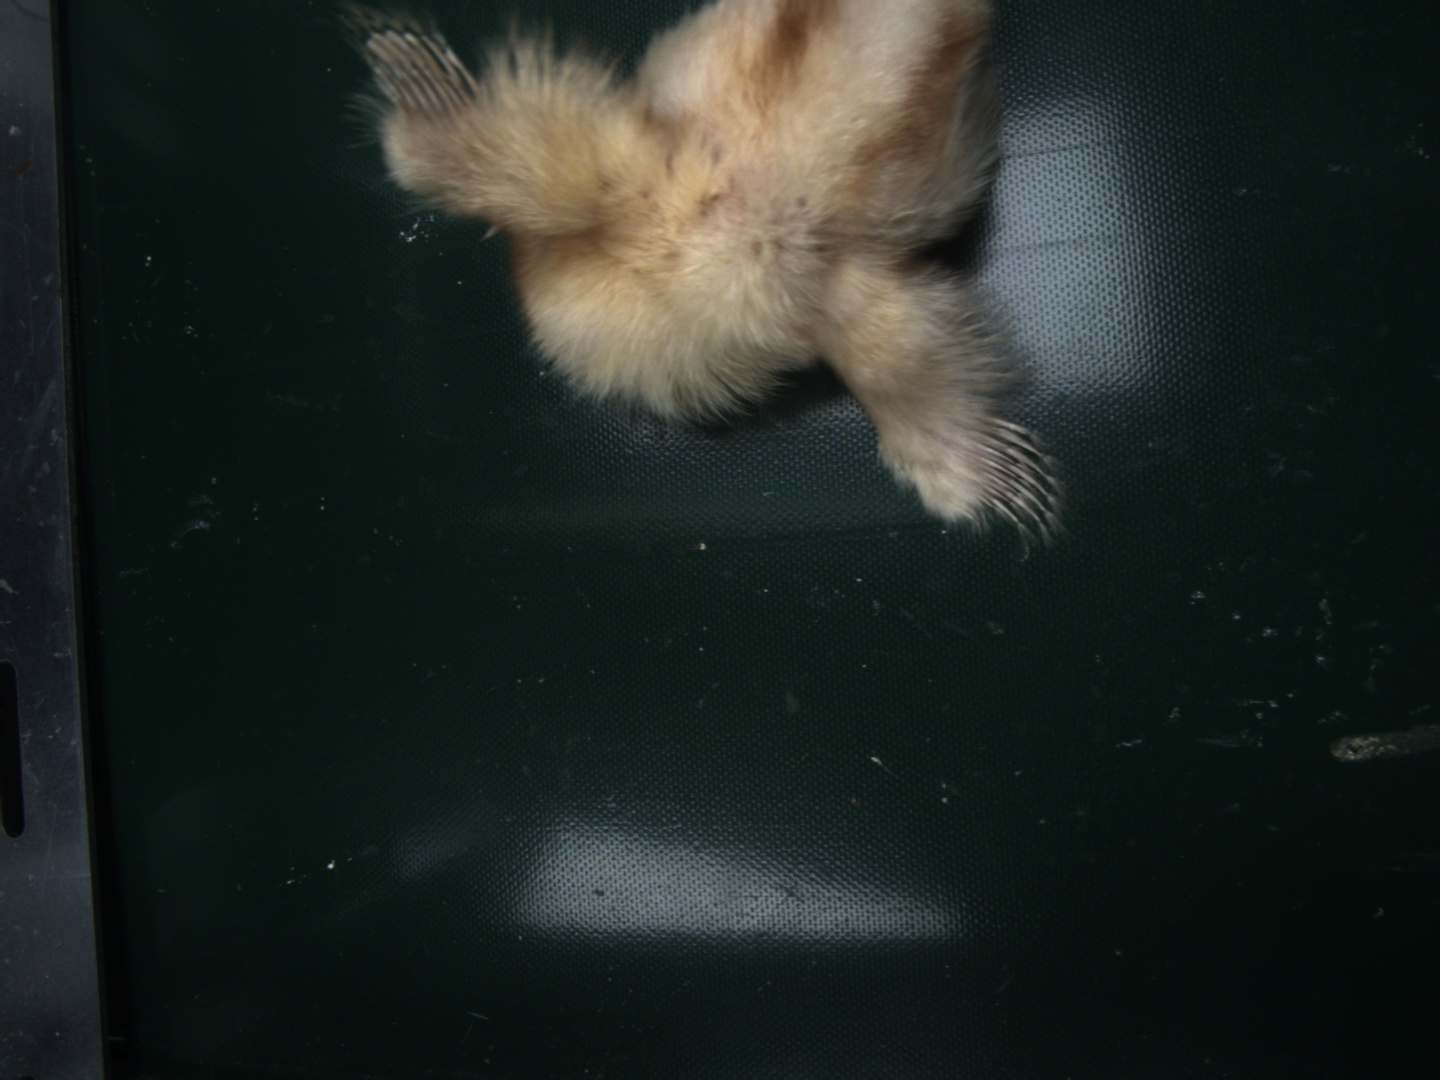female: (974, 414, 1048, 518)
